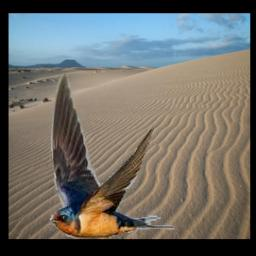Swallow: (48, 72, 174, 237)
